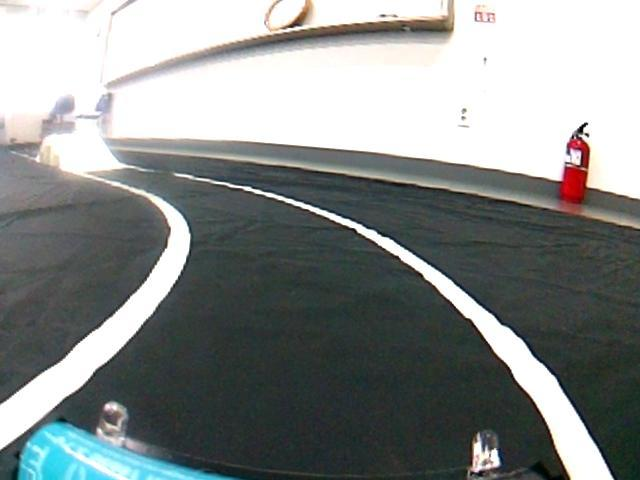straight: (0, 247, 632, 477)
